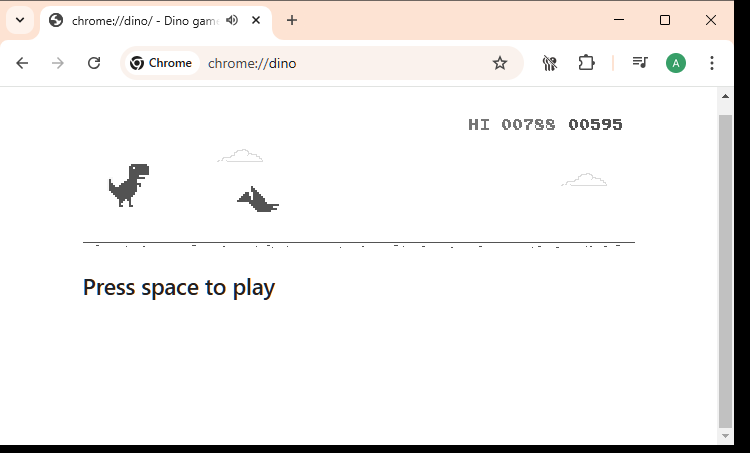bird: (236, 185, 280, 214)
dino: (108, 163, 151, 208)
